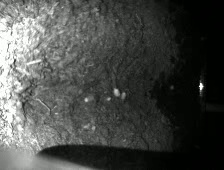corn: (112, 87, 120, 97), (84, 95, 94, 103), (120, 92, 126, 100), (170, 85, 174, 90)
